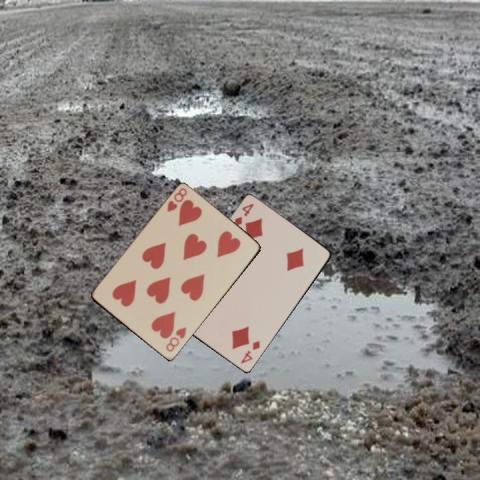4d: (237, 338, 262, 365), (232, 201, 256, 227)
8h: (163, 324, 188, 353), (164, 185, 189, 214)
